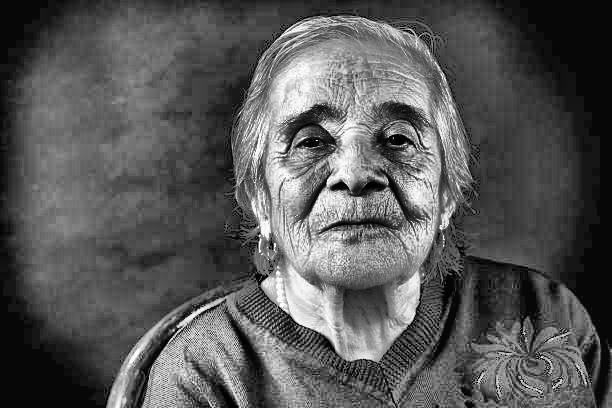sad: (270, 79, 455, 302)
